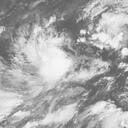cyclone: (23, 28, 92, 88)
